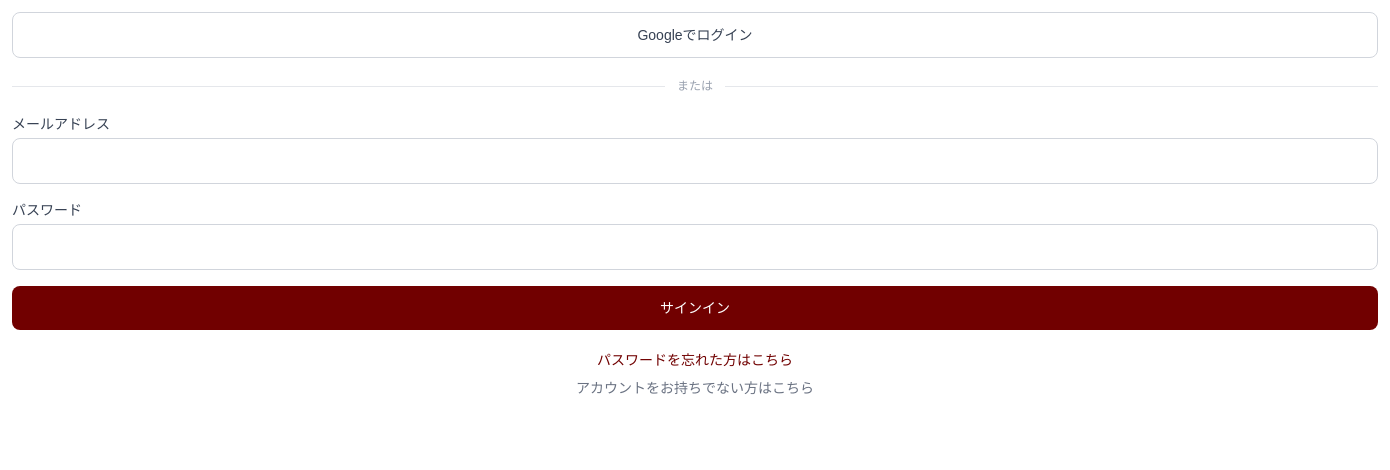
Test: LoginForm › メール・パスワード未入力で送信 → バリデーションエラーが表示される（REQ-304）
Click the button "サインイン" at (695, 308), box [12,286,1378,330]
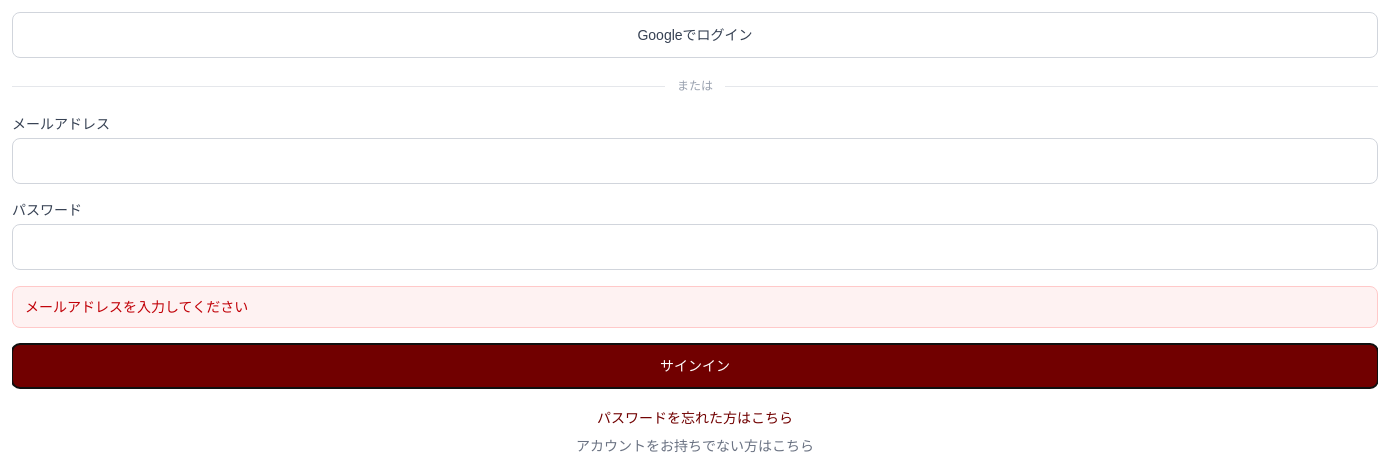
Expected: the text "メールアドレスを入力してください" is shown, [12,286,1378,328]
